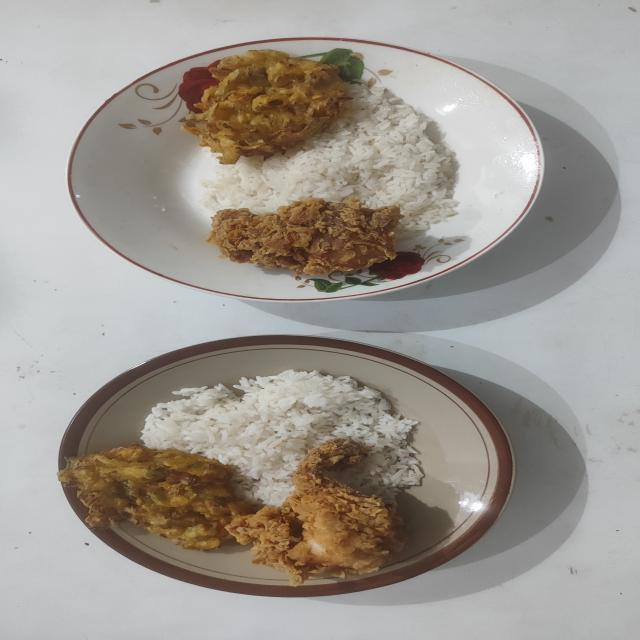nasi_putih: (140, 369, 423, 506), (204, 85, 459, 232)
